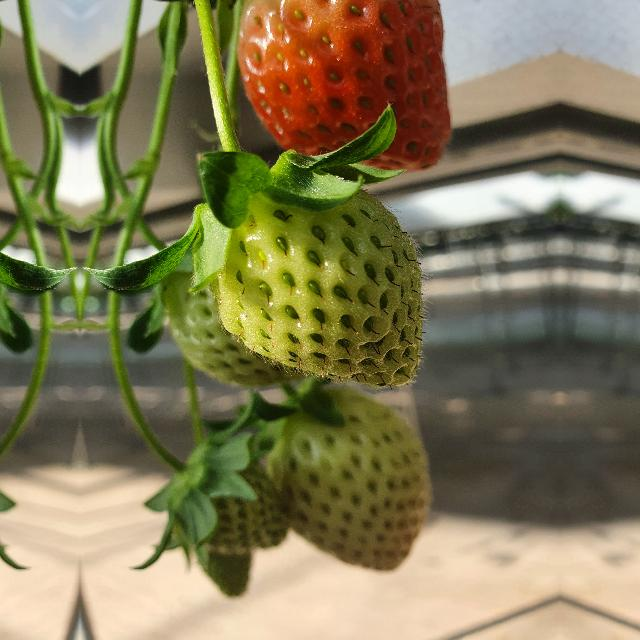Health_100: (236, 2, 448, 168)
Health_25: (208, 188, 422, 388), (264, 400, 432, 574)
